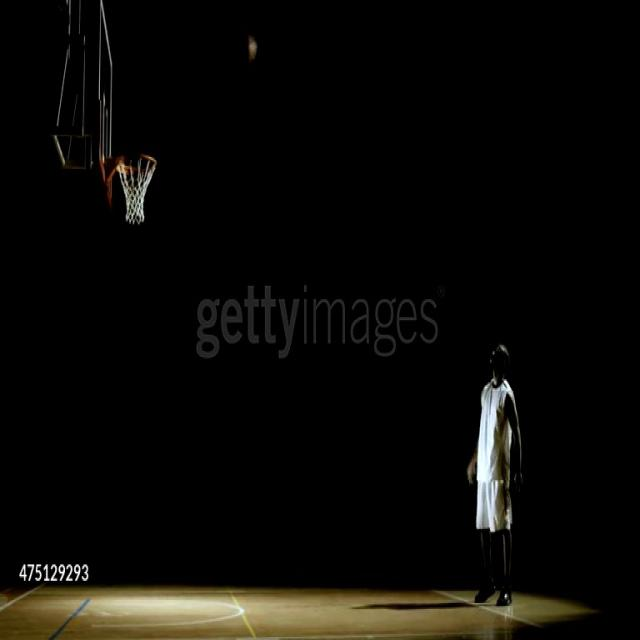ball: (242, 36, 258, 65)
